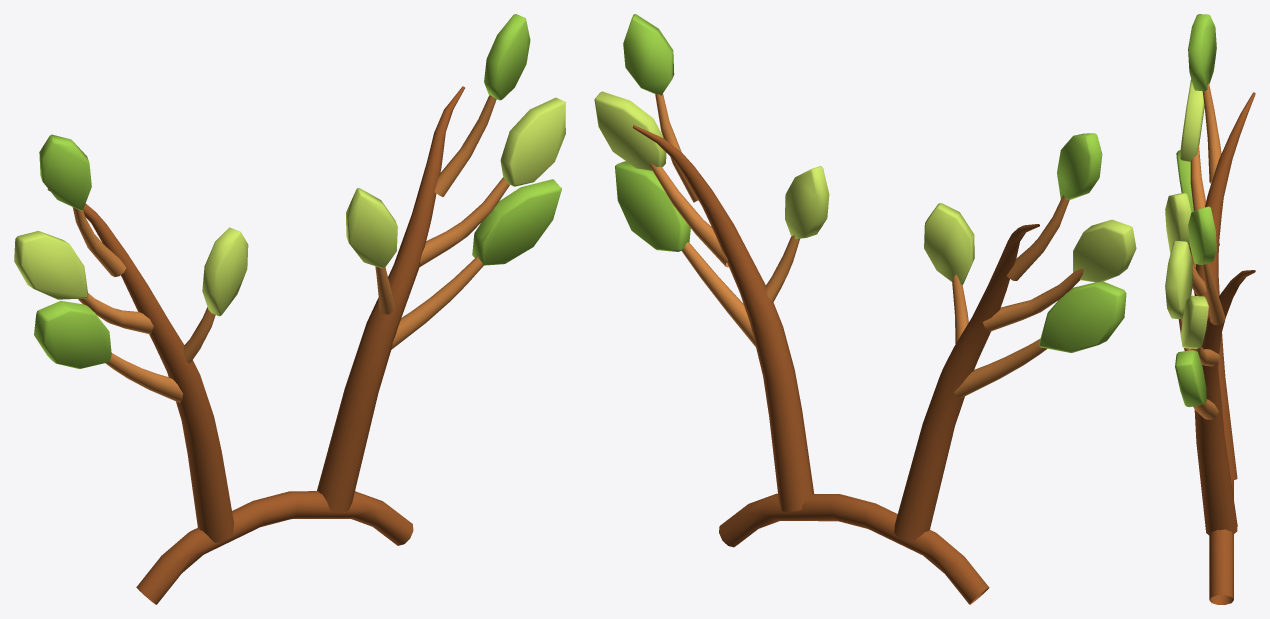
The model's file is leafantlers.glb.
The picture shows the model from 3 angles, left to right: view 1: azimuth 30°, elevation 25°; view 2: azimuth 150°, elevation 25°; view 3: azimuth 270°, elevation 25°; orthographic projection. The views are drawn at different scales.
Visible parts, largest first — view 1: leafantlers_Main Branch 1, leafantlers_Main Branch -1, leafantlers_Hidden Band, leafantlers_Lower Leaf 1, leafantlers_Lower Leaf -1, leafantlers_Middle Leaf 1, leafantlers_Middle Leaf -1, leafantlers_Inner Leaf 1, leafantlers_Top Leaf -1, leafantlers_Inner Leaf -1, leafantlers_Top Leaf 1, leafantlers_Lower Branch 1 (+6 smaller); view 2: leafantlers_Main Branch 1, leafantlers_Main Branch -1, leafantlers_Hidden Band, leafantlers_Lower Leaf -1, leafantlers_Lower Leaf 1, leafantlers_Middle Leaf 1, leafantlers_Middle Leaf -1, leafantlers_Inner Leaf -1, leafantlers_Top Leaf 1, leafantlers_Inner Leaf 1, leafantlers_Top Leaf -1, leafantlers_Lower Branch 1 (+7 smaller); view 3: leafantlers_Main Branch 1, leafantlers_Main Branch -1, leafantlers_Hidden Band, leafantlers_Top Leaf -1, leafantlers_Inner Leaf 1, leafantlers_Lower Leaf 1, leafantlers_Top Leaf 1, leafantlers_Middle Leaf -1, leafantlers_Middle Leaf 1, leafantlers_Inner Leaf -1, leafantlers_Top Branch -1, leafantlers_Top Branch 1 (+5 smaller).
Part boxes in pixels (box(x1,y1,x2,y2)): leafantlers_Main Branch 1: box(317, 86, 464, 511); leafantlers_Main Branch -1: box(47, 189, 234, 542); leafantlers_Hidden Band: box(136, 491, 413, 604); leafantlers_Lower Leaf 1: box(472, 179, 561, 265); leafantlers_Lower Leaf -1: box(34, 301, 111, 368); leafantlers_Middle Leaf 1: box(500, 97, 565, 186); leafantlers_Middle Leaf -1: box(14, 231, 88, 299); leafantlers_Inner Leaf 1: box(346, 188, 397, 268); leafantlers_Top Leaf -1: box(39, 134, 91, 210); leafantlers_Inner Leaf -1: box(202, 227, 248, 316); leafantlers_Top Leaf 1: box(484, 14, 530, 100); leafantlers_Lower Branch 1: box(391, 256, 483, 349); leafantlers_Main Branch 1: box(632, 125, 814, 511); leafantlers_Main Branch -1: box(894, 224, 1039, 542); leafantlers_Hidden Band: box(719, 493, 989, 604); leafantlers_Lower Leaf -1: box(1039, 281, 1126, 352); leafantlers_Lower Leaf 1: box(615, 161, 690, 251); leafantlers_Middle Leaf 1: box(594, 91, 666, 170); leafantlers_Middle Leaf -1: box(1073, 219, 1136, 282); leafantlers_Inner Leaf -1: box(924, 203, 974, 285); leafantlers_Top Leaf 1: box(623, 14, 674, 95); leafantlers_Inner Leaf 1: box(785, 166, 829, 238); leafantlers_Top Leaf -1: box(1057, 133, 1102, 199); leafantlers_Lower Branch 1: box(682, 242, 756, 347); leafantlers_Main Branch 1: box(1194, 270, 1255, 535); leafantlers_Main Branch -1: box(1195, 92, 1255, 480); leafantlers_Hidden Band: box(1209, 475, 1233, 604); leafantlers_Top Leaf -1: box(1188, 14, 1216, 91); leafantlers_Inner Leaf 1: box(1165, 240, 1192, 319); leafantlers_Lower Leaf 1: box(1175, 350, 1206, 407); leafantlers_Top Leaf 1: box(1188, 206, 1216, 265); leafantlers_Middle Leaf -1: box(1179, 79, 1204, 161); leafantlers_Middle Leaf 1: box(1180, 295, 1208, 348); leafantlers_Inner Leaf -1: box(1165, 193, 1191, 253); leafantlers_Top Branch -1: box(1202, 83, 1221, 183); leafantlers_Top Branch 1: box(1202, 263, 1225, 325).
Size of the model in its own units: 0.8119 by 0.7205 by 0.1326.
